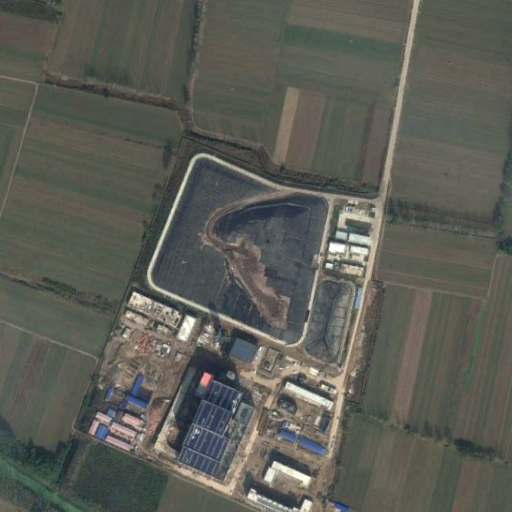lf: (148, 154, 332, 347)
